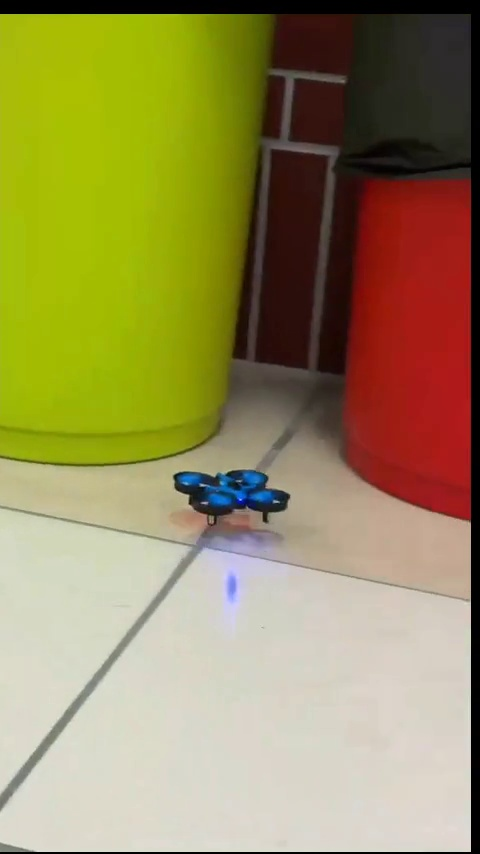drone: (168, 471, 295, 526)
